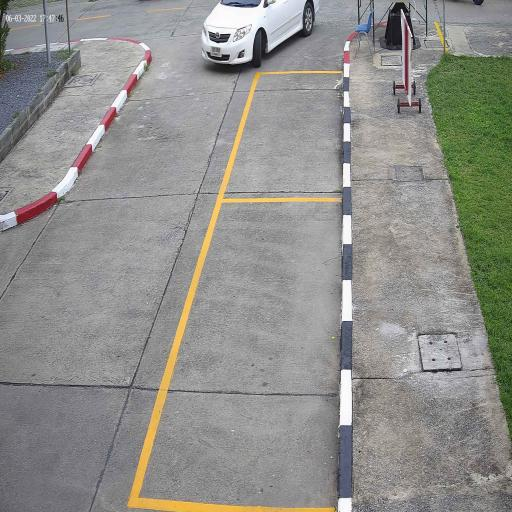car: (200, 0, 321, 71)
